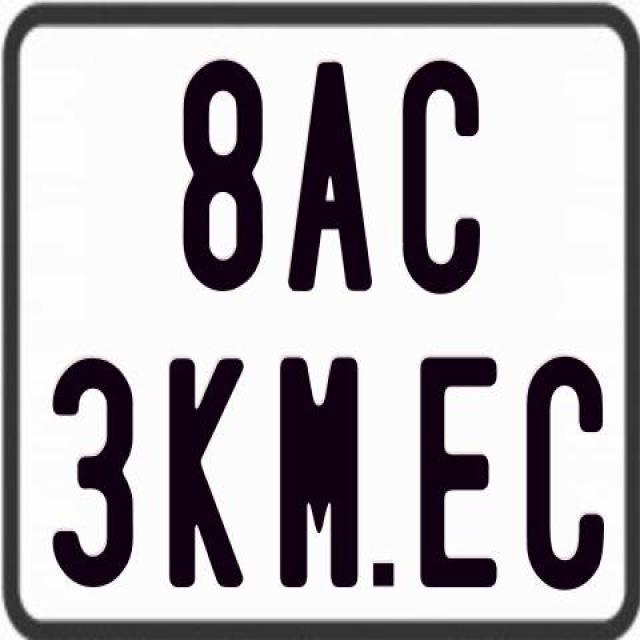3: (52, 357, 138, 592)
8: (183, 56, 265, 290)
A: (284, 58, 376, 290)
C: (527, 357, 607, 594), (400, 58, 478, 300)
E: (418, 352, 502, 586)
K: (169, 354, 247, 591)
M: (277, 352, 355, 586)
